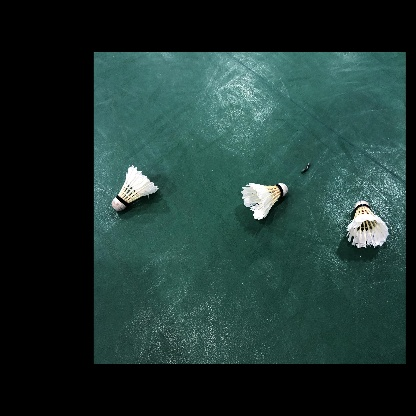ball_single: (111, 165, 159, 211), (346, 200, 389, 248), (241, 183, 288, 220)
